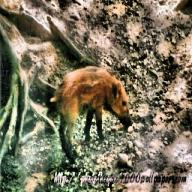boar: (49, 64, 133, 162)
